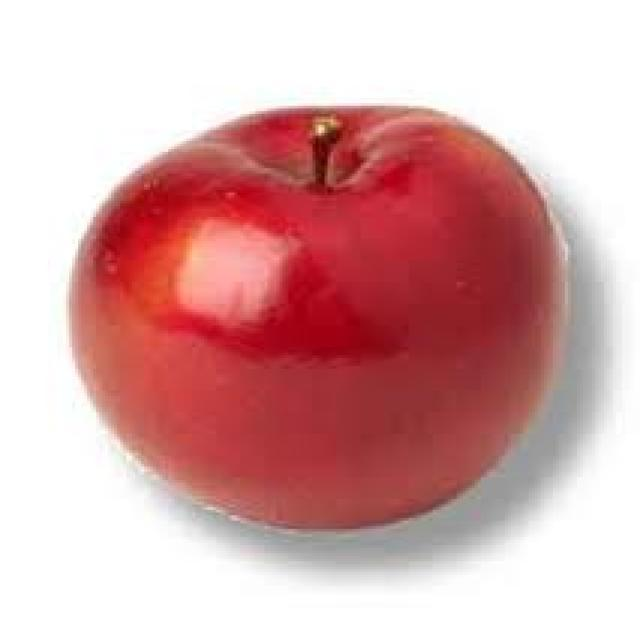Apple: (51, 92, 577, 551)
